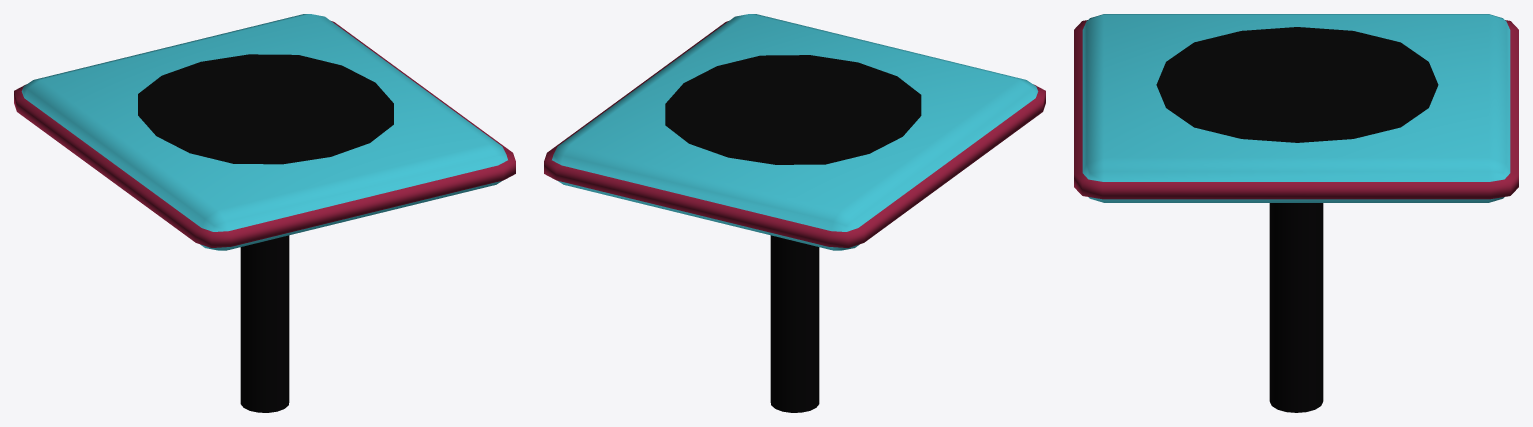
Rendered from table50s.glb.
3 views of the same model, side by side, from view 1: azimuth 30°, elevation 25°; view 2: azimuth 150°, elevation 25°; view 3: azimuth 270°, elevation 25° (orthographic). The views are drawn at different scales.
Visible parts, largest first — view 1: table50s; view 2: table50s; view 3: table50s.
Part boxes in pixels (box(x1,y1,x2,y2)): table50s: box(14, 14, 515, 412); table50s: box(544, 14, 1045, 412); table50s: box(1074, 14, 1518, 412).
Size of the model in its own units: 1.16 by 1.02 by 1.3.
1 material, 1 textured.
